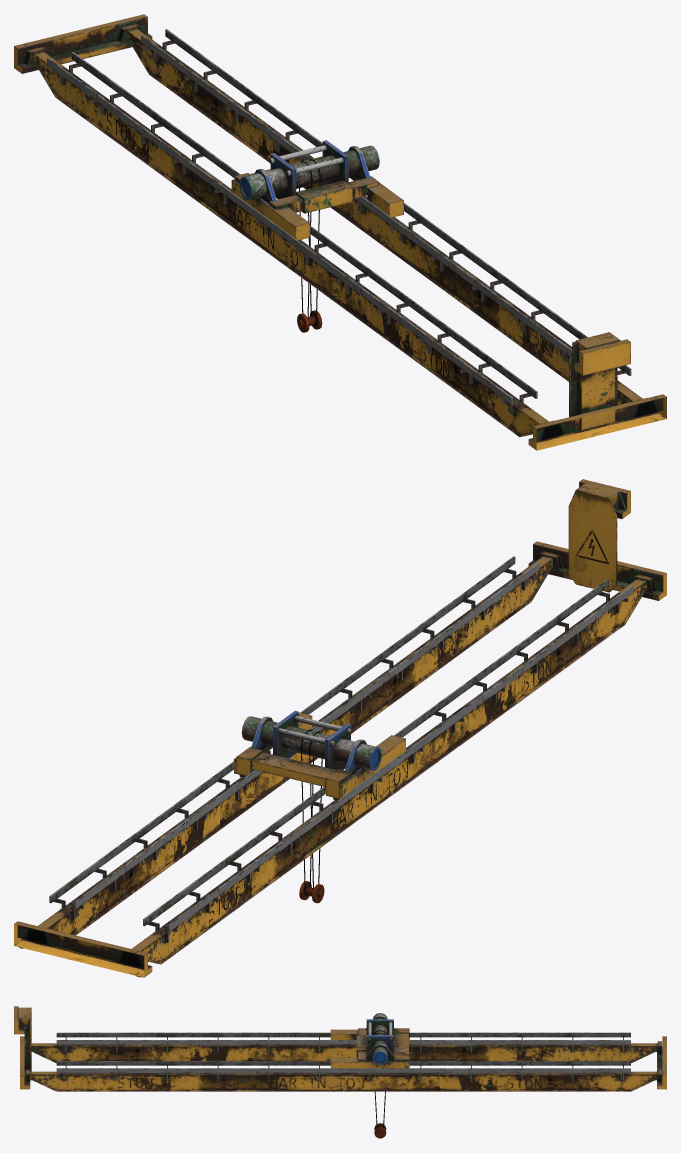
The model's file is overhead_crane.glb.
3 views of the same model, one above another, from view 1: azimuth 30°, elevation 25°; view 2: azimuth 150°, elevation 25°; view 3: azimuth 270°, elevation 25° (orthographic). The views are drawn at different scales.
Visible parts, largest first — view 1: Overhead_Crane; view 2: Overhead_Crane; view 3: Overhead_Crane.
Boxes of the visible parts, x1=… form: Overhead_Crane: x1=14, y1=14, x2=666, y2=450; Overhead_Crane: x1=14, y1=479, x2=666, y2=977; Overhead_Crane: x1=14, y1=1006, x2=666, y2=1138.
Bounding box in the file's own units: 170 × 250 × 1194.
1 material, 1 textured.
